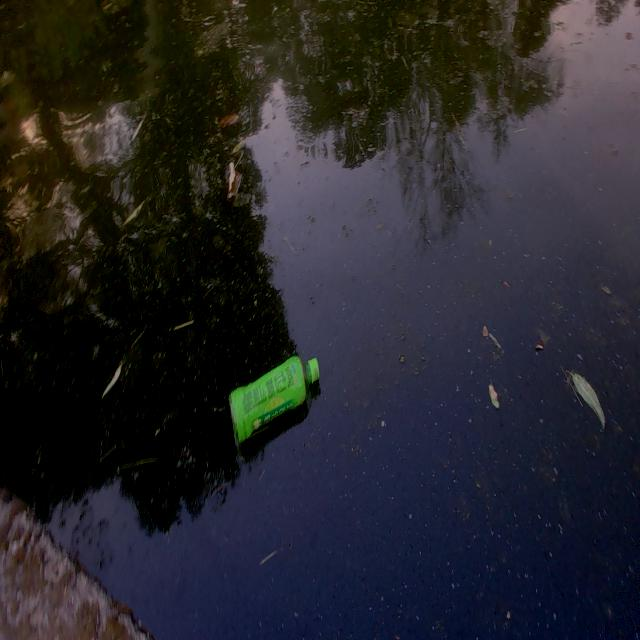bottle: (212, 313, 338, 473)
